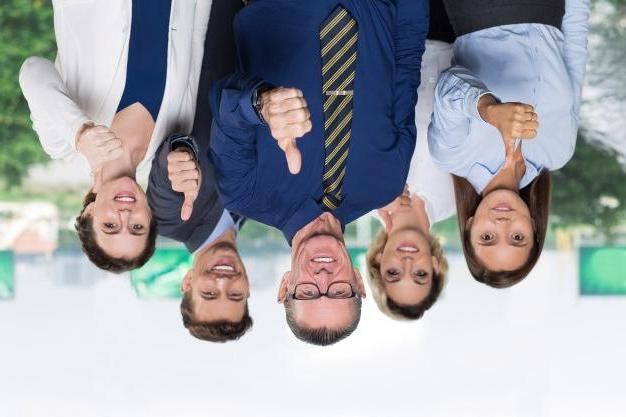thumbsdown: (268, 88, 313, 175), (502, 103, 539, 170), (167, 150, 199, 222), (92, 125, 125, 194), (385, 183, 412, 231)
